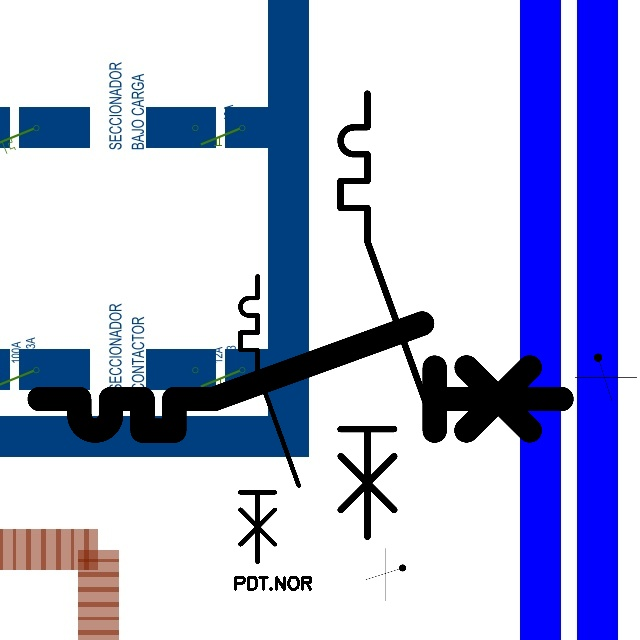interruptor_termomagnetico: (26, 310, 575, 444), (329, 82, 443, 548), (233, 269, 306, 569)
